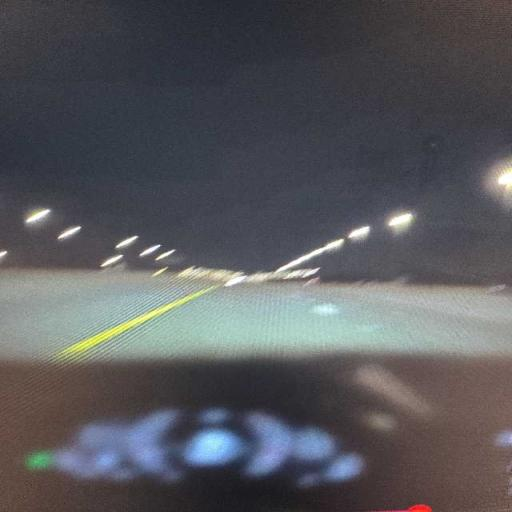lane: (0, 272, 511, 360), (0, 271, 211, 359), (56, 287, 217, 360)
